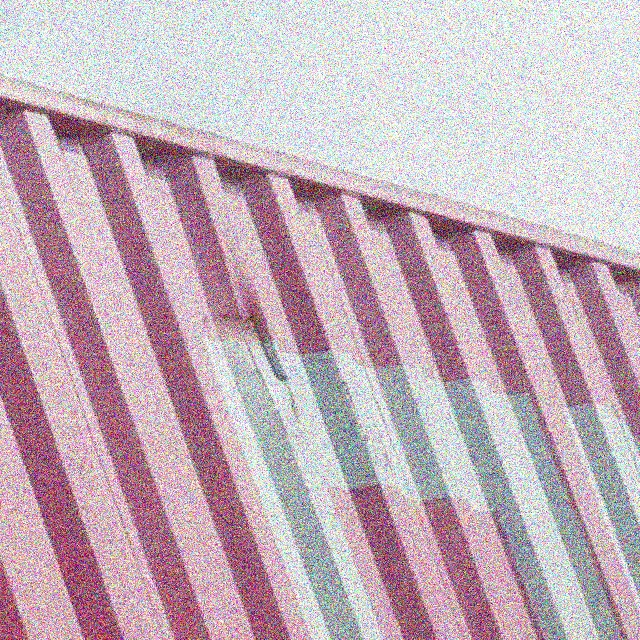Dent: (210, 296, 319, 408)
